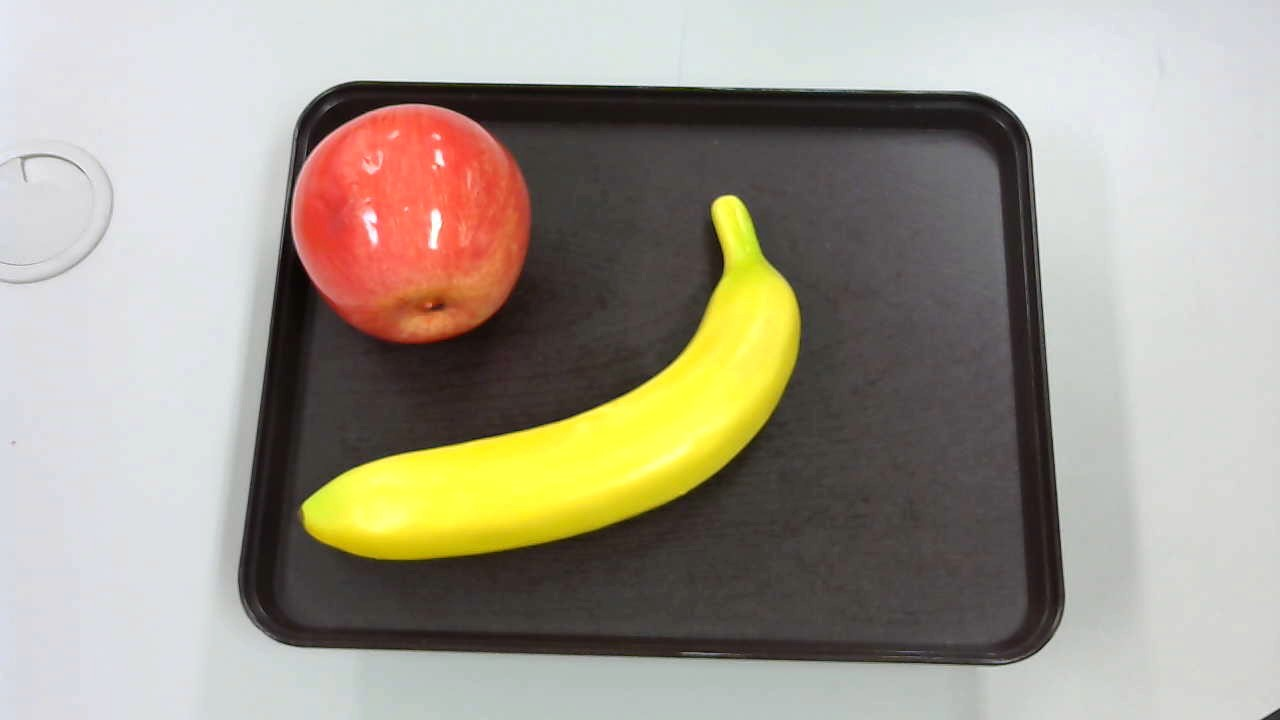banana: (302, 190, 812, 570)
red apple: (293, 103, 530, 346)
